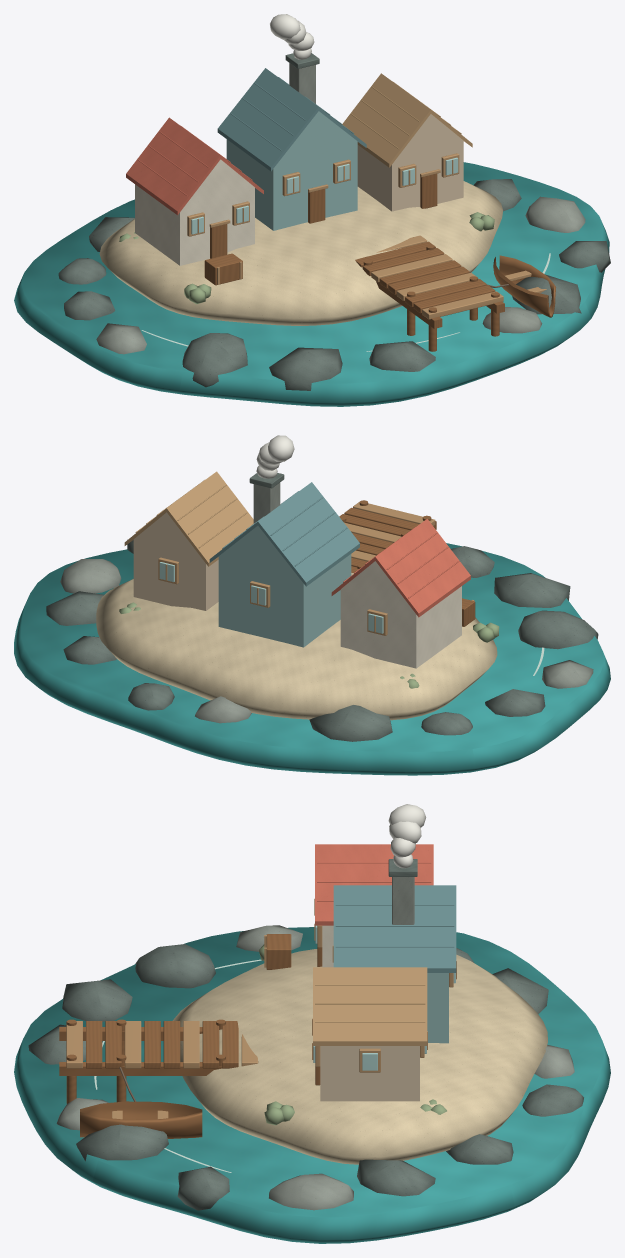
The model's file is fishing-village-v2.glb.
The picture shows the model from 3 angles, top to bottom: view 1: azimuth 30°, elevation 25°; view 2: azimuth 150°, elevation 25°; view 3: azimuth 270°, elevation 25°; orthographic projection. The views are drawn at different scales.
Parts seen in each view (by area): view 1: Village | collectible export; view 2: Village | collectible export; view 3: Village | collectible export.
Part boxes in pixels (<box>): Village | collectible export: <box>14,14,610,406</box>; Village | collectible export: <box>14,435,610,775</box>; Village | collectible export: <box>14,804,610,1243</box>.
Bounding box in the file's own units: 1.71 × 0.7827 × 1.44.
Materials: 17 (7 with a texture image).
